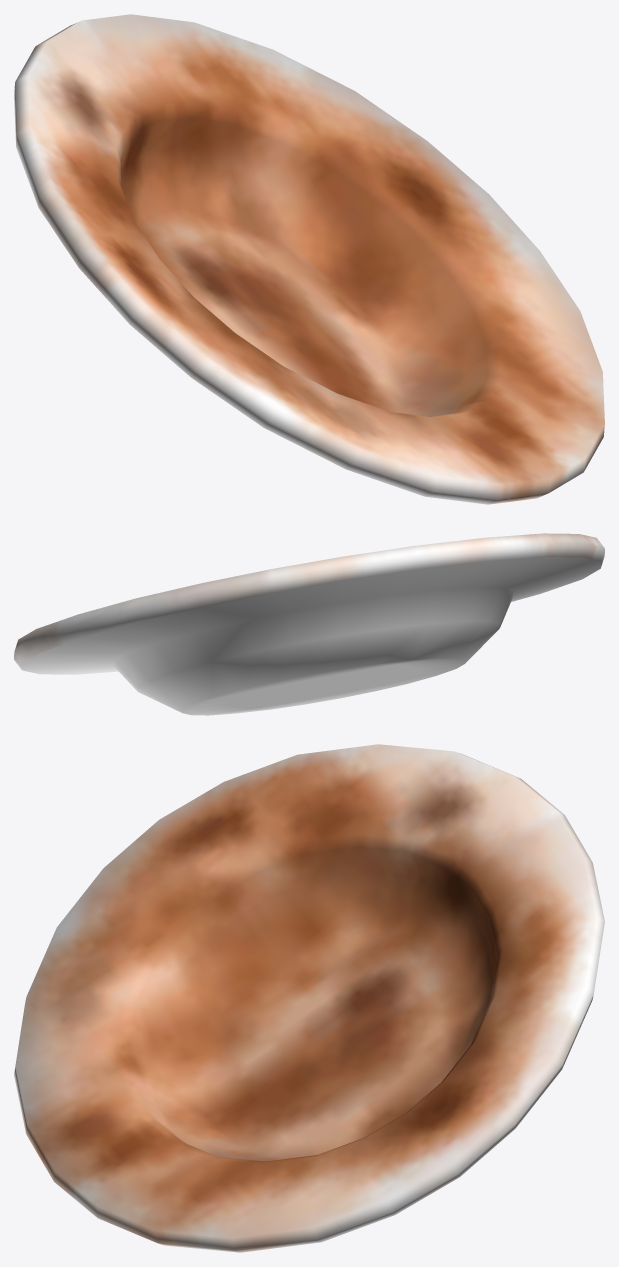
File: m_sk_plate_dirty_Sink.fbx
The picture shows the model from 3 angles, top to bottom: view 1: azimuth 30°, elevation 25°; view 2: azimuth 150°, elevation 25°; view 3: azimuth 270°, elevation 25°; orthographic projection. The views are drawn at different scales.
Parts seen in each view (by area): view 1: m_Plate_wash; view 2: m_Plate_wash; view 3: m_Plate_wash.
Boxes of the visible parts, <box> form: m_Plate_wash: <box>14,14,604,504</box>; m_Plate_wash: <box>14,533,604,715</box>; m_Plate_wash: <box>14,744,604,1252</box>.
Bounding box in the file's own units: 0.9055 × 0.552 × 0.934.
1 material, 1 textured.
